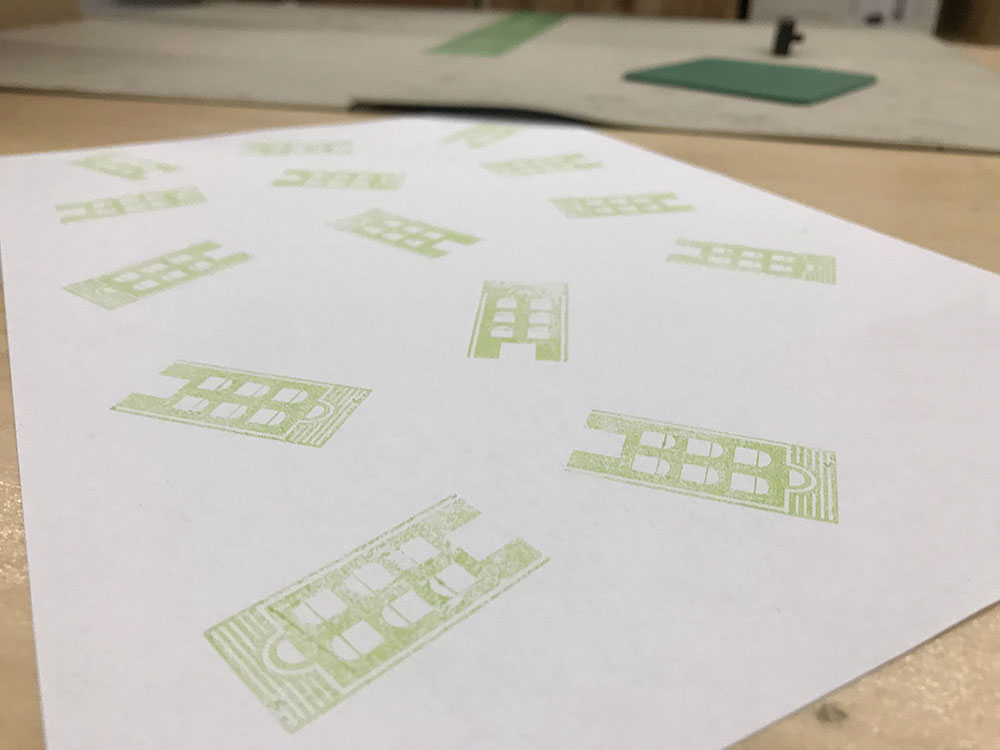build: (176, 474, 567, 746), (548, 401, 858, 539), (87, 347, 387, 465), (44, 229, 276, 325), (452, 265, 595, 387), (653, 223, 847, 298), (312, 199, 492, 269), (532, 176, 708, 232), (46, 180, 219, 230), (255, 159, 417, 205), (467, 146, 616, 182)
